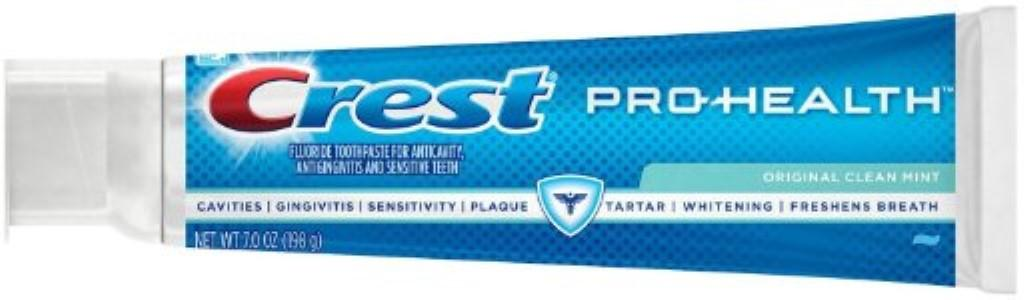toothpaste: (0, 4, 1024, 300)
